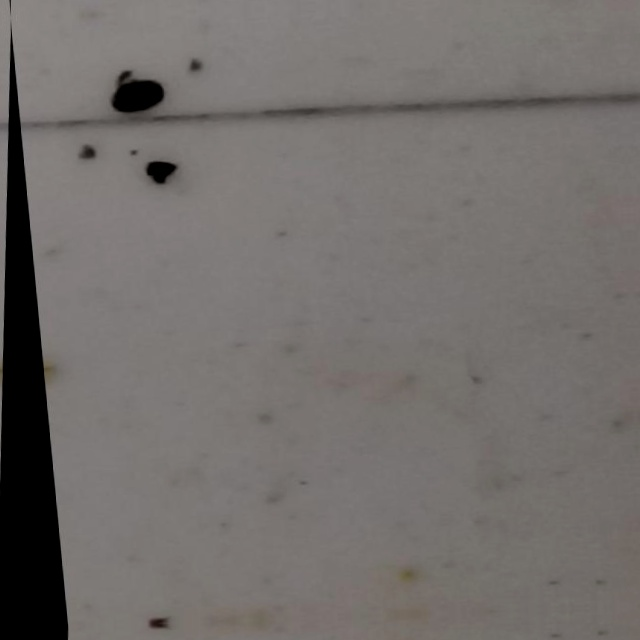varroa: (108, 80, 165, 116)
